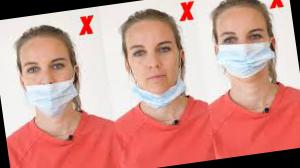mask_weared_incorrect: (125, 35, 188, 105), (21, 54, 79, 114)
with_mask: (217, 25, 273, 77)
